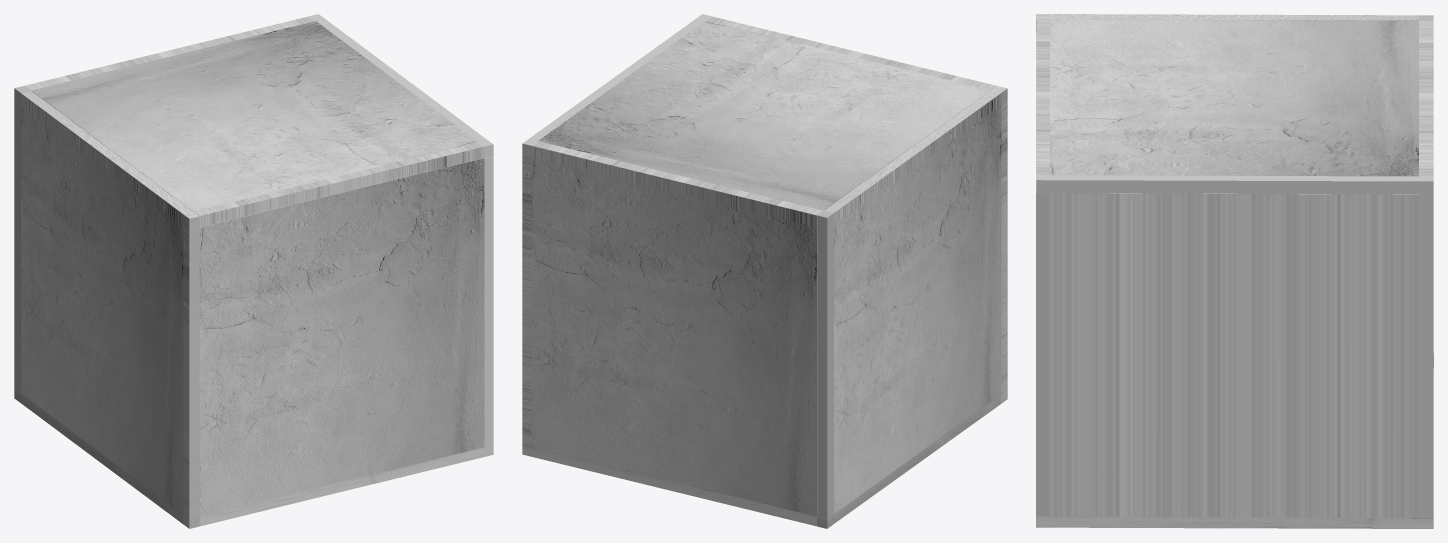
File: Room.gltf
3 renders of one model, left to right at view 1: azimuth 30°, elevation 25°; view 2: azimuth 150°, elevation 25°; view 3: azimuth 270°, elevation 25°, orthographic. The views are drawn at different scales.
Visible parts, largest first — view 1: Studio Walls; view 2: Studio Walls; view 3: Studio Walls.
Boxes of the visible parts, <box> form: Studio Walls: <box>14,14,493,528</box>; Studio Walls: <box>522,14,1007,528</box>; Studio Walls: <box>1036,14,1433,528</box>.
Size of the model in its own units: 6.61 by 6.39 by 6.64.
Materials: 6 (6 with a texture image).
